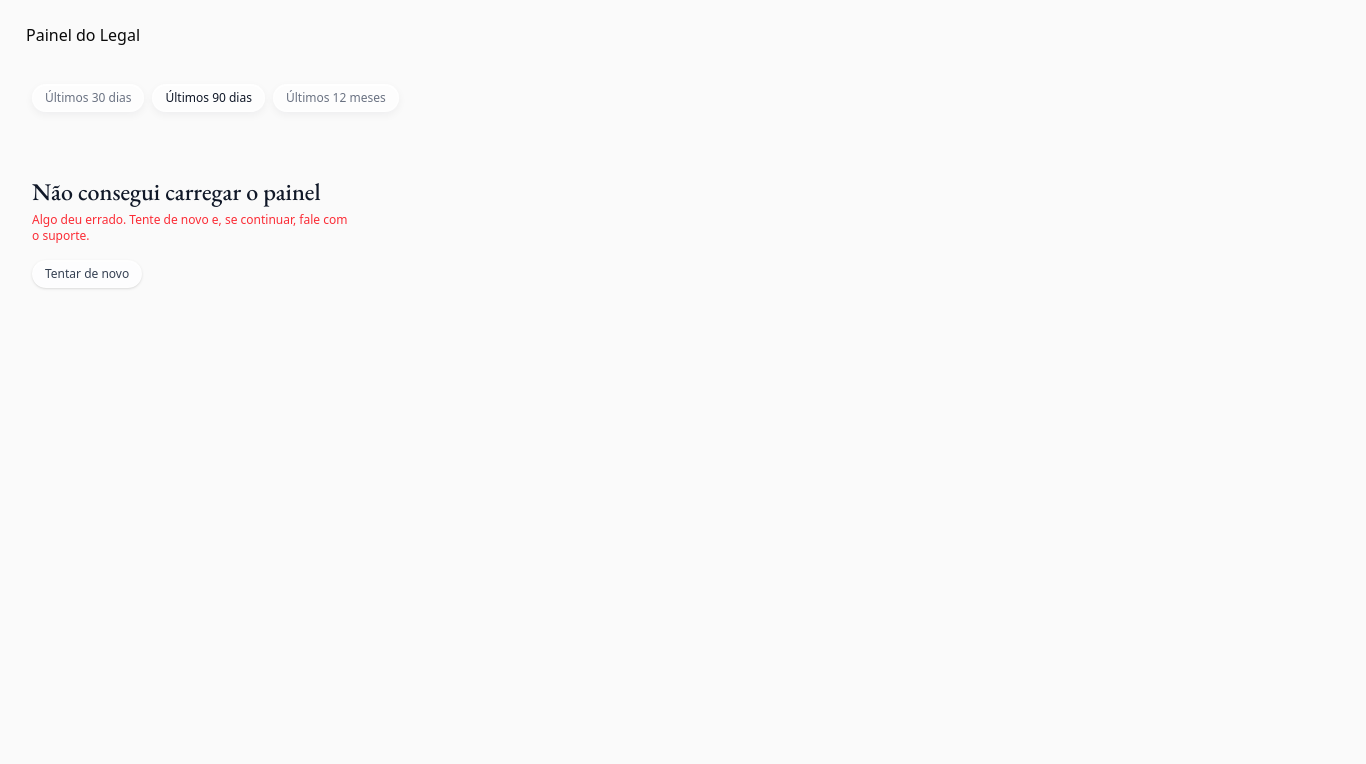
Test: LegalDashboardView › shows a failure with a way to retry
Click the button named "Tentar de novo". click: x=87, y=274
box: [32,260,142,288]
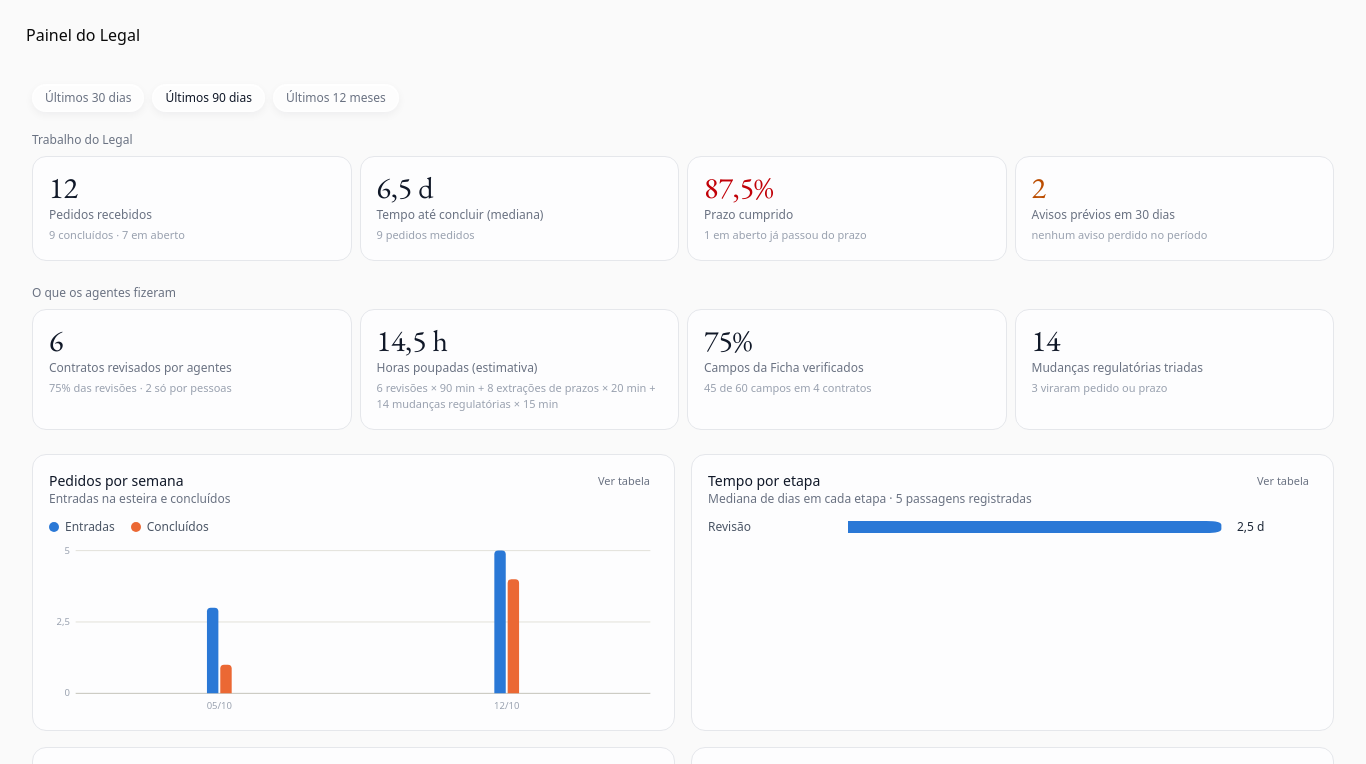
Check: the text "Pedidos recebidos" is shown, box [49,207,152,223]
